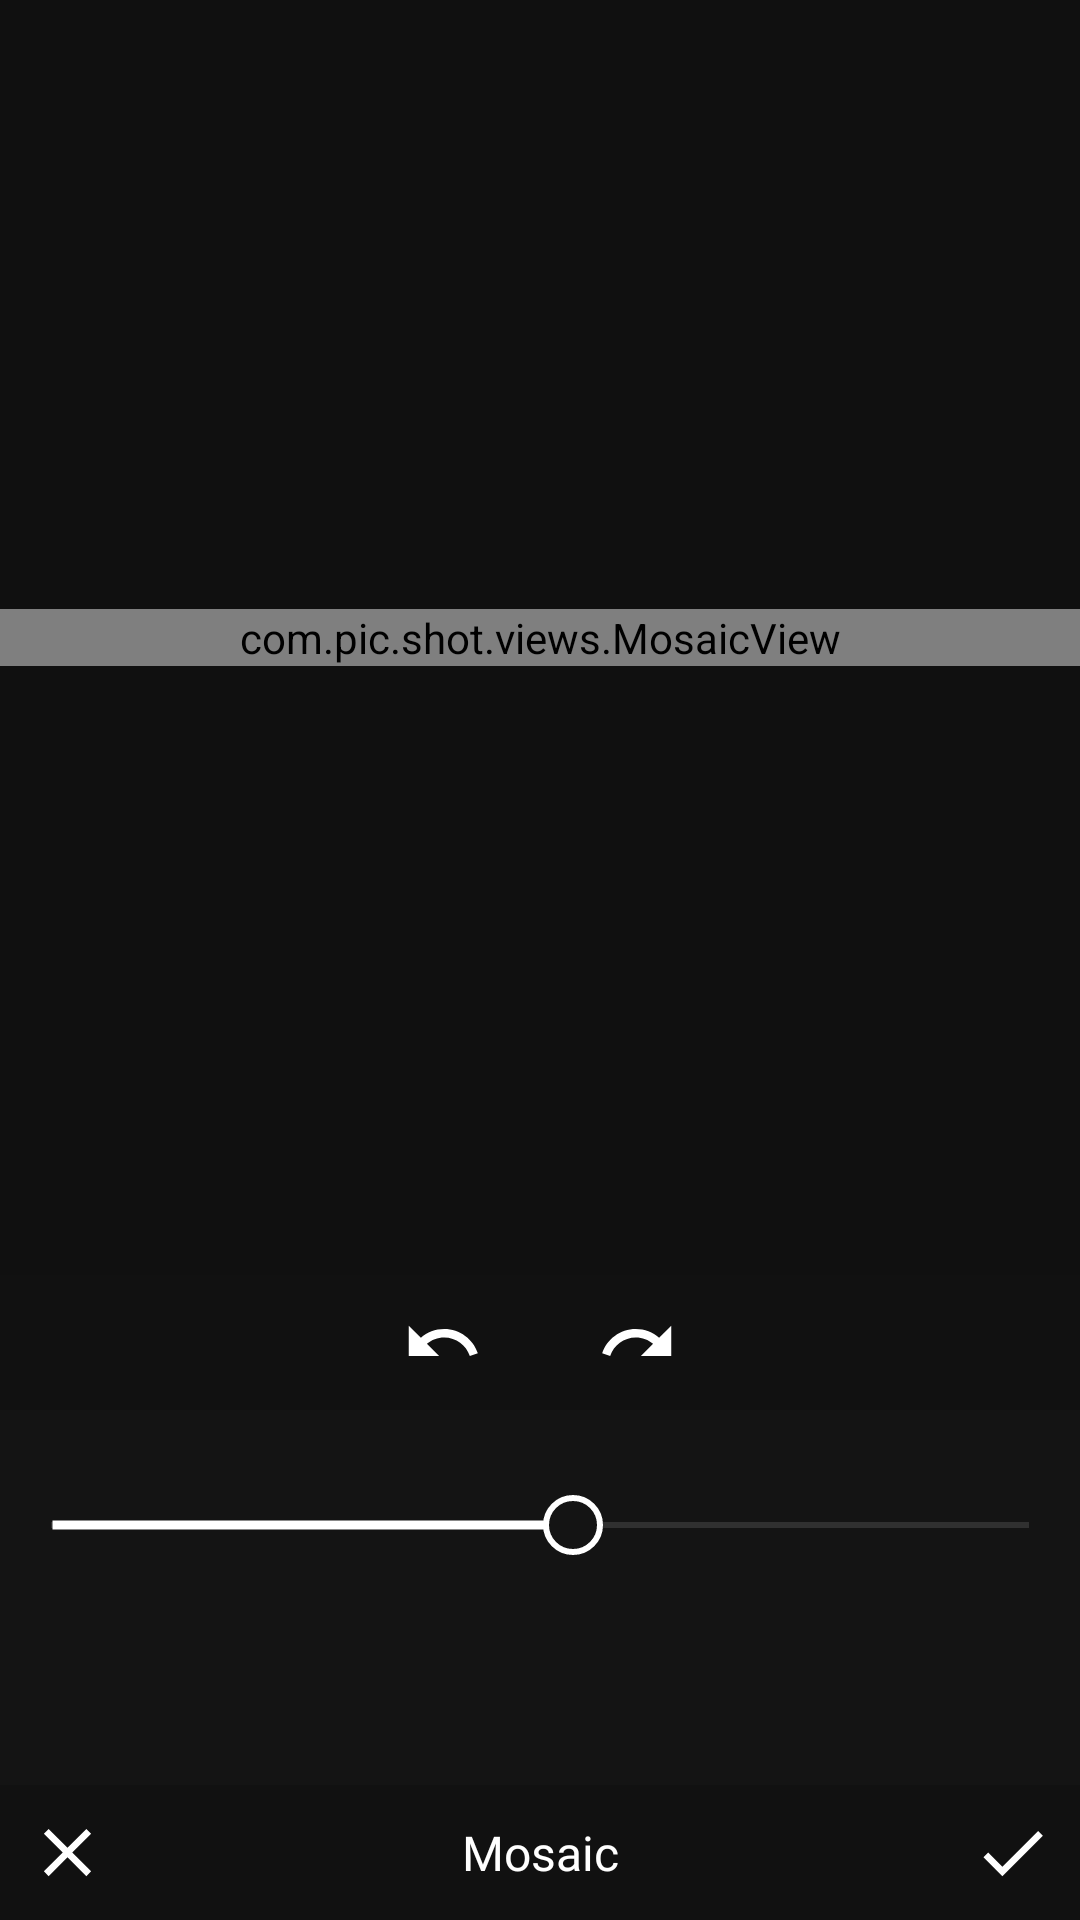

Where to tap for icons on this 1080x1920 app screen, as [x,y]:
close: [67,1852]
done: [1013,1853]
redo: [637,1341]
undo: [443,1341]
